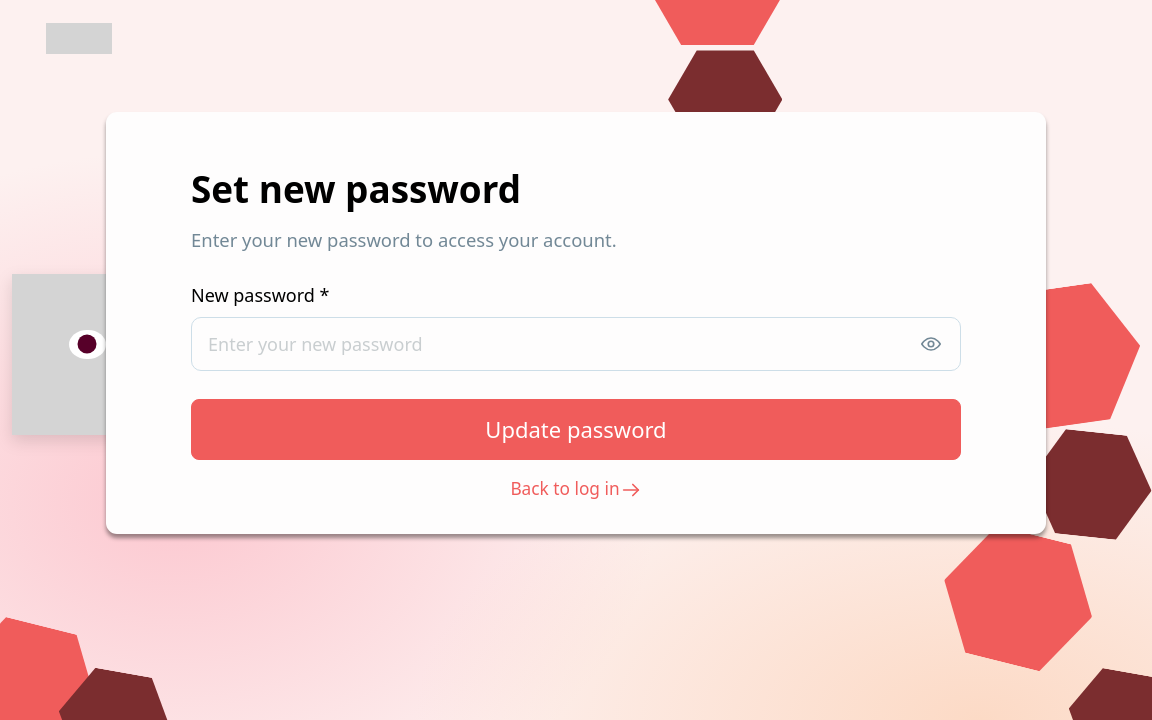
Scenario: UpdatePassword page › displays error banner when updatePassword returns weak_password error
The image size is (1152, 720).
Type "short" into the password field labelled "New password *".
click(576, 344); type("short")  # box [191,317,961,371]
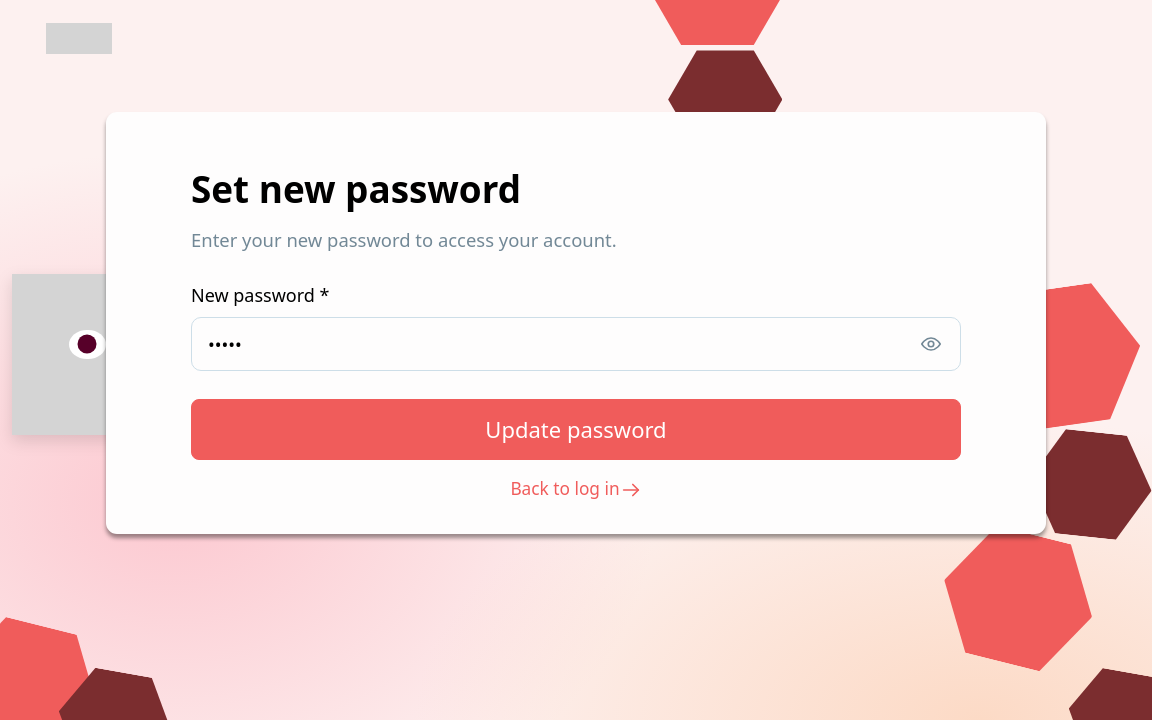
Click the button "Update password".
click(576, 430)  # box [191,399,961,460]
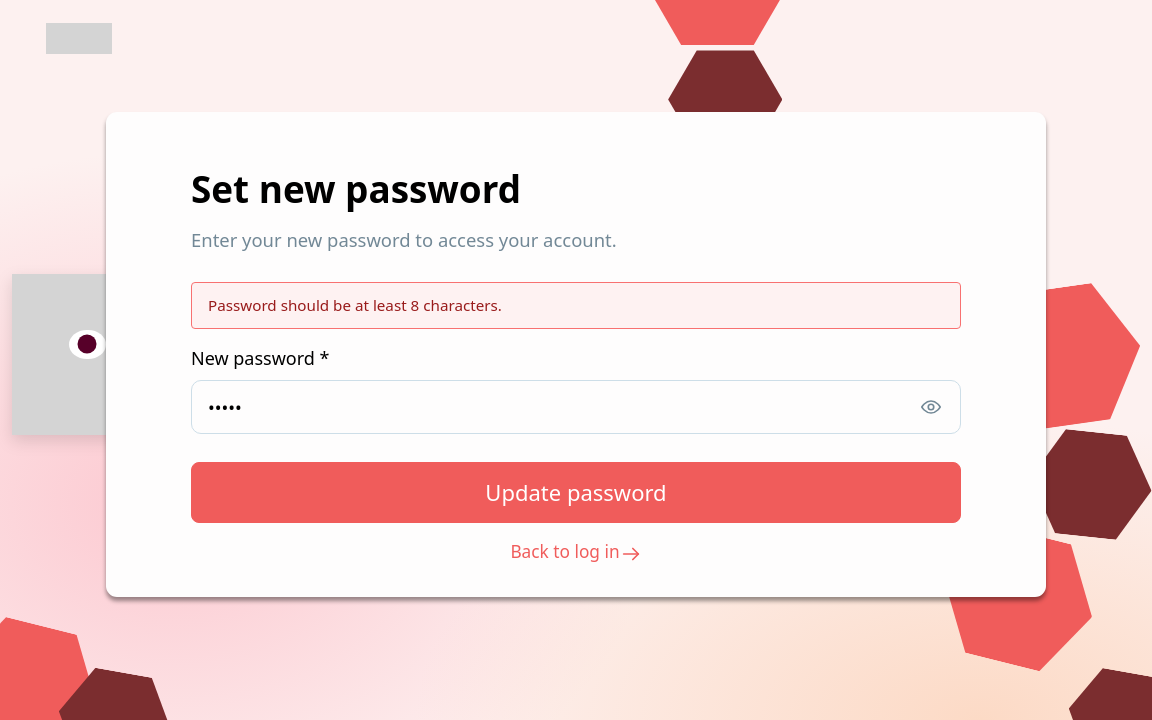
expect the text "Password should be at least 8 characters." is shown: met, box [208,295,502,315]
expect the message "Password should be at least 8 characters." is shown: met, box [191,282,961,329]
